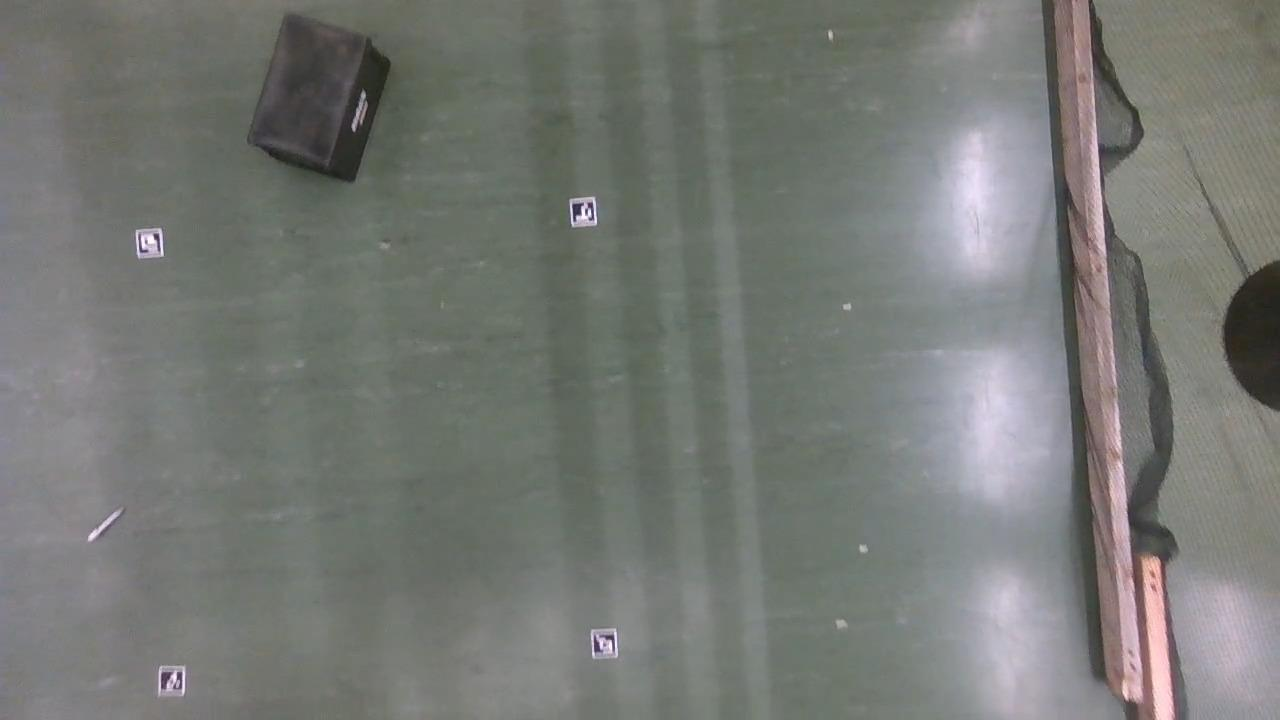probes: (86, 505, 124, 542)
rako: (246, 13, 391, 185)
